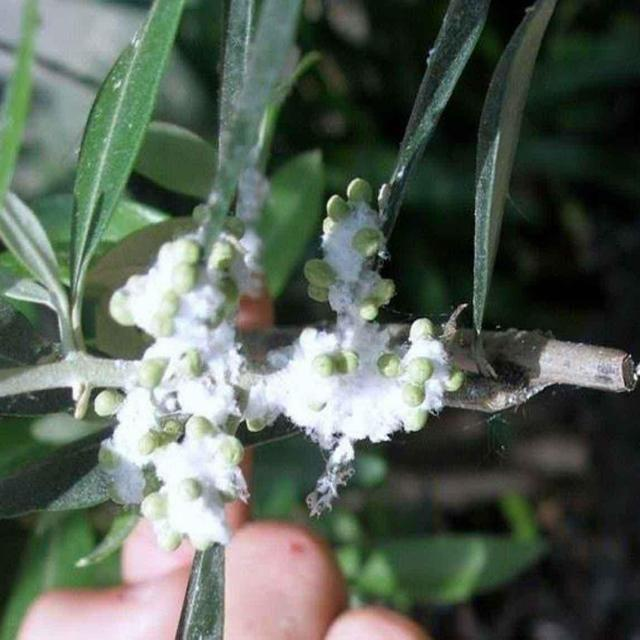Psyllid: (266, 178, 460, 516), (99, 225, 258, 560)
